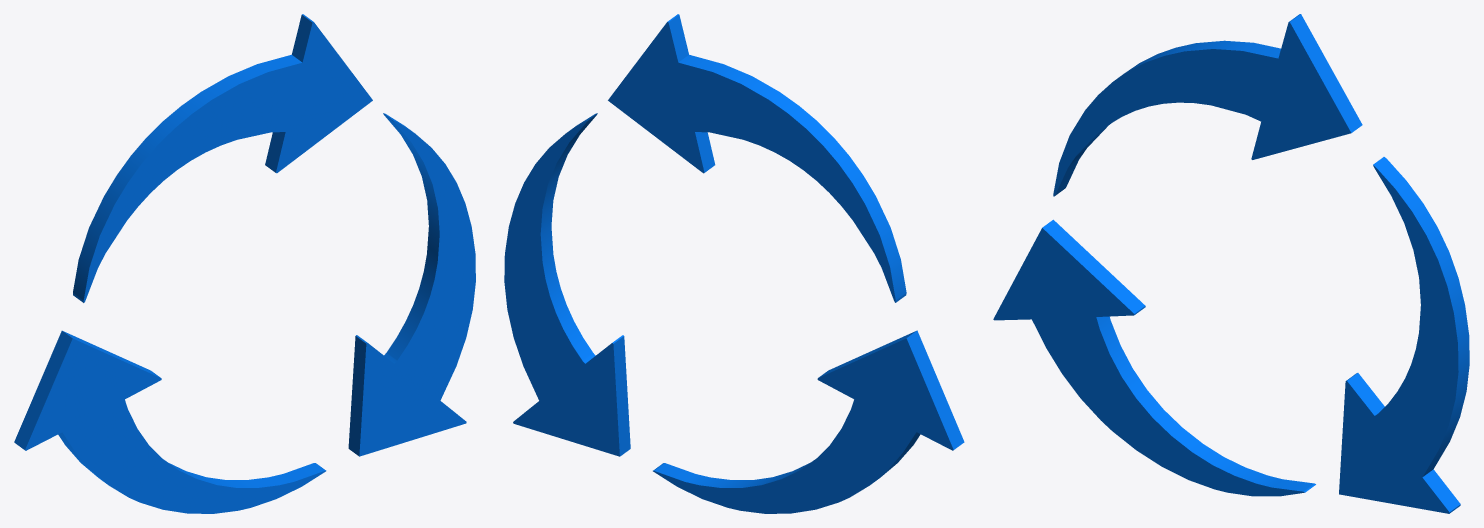
Rendered from cycle.glb.
The picture shows the model from 3 angles, left to right: view 1: azimuth 30°, elevation 25°; view 2: azimuth 150°, elevation 25°; view 3: azimuth 330°, elevation 25°; orthographic projection. The views are drawn at different scales.
Parts seen in each view (by area): view 1: Curve.002; view 2: Curve.002; view 3: Curve.002.
Part boxes in pixels (bbox=[...]): Curve.002: bbox=[14, 14, 475, 513]; Curve.002: bbox=[504, 14, 964, 513]; Curve.002: bbox=[993, 14, 1469, 513].
Bounding box in the file's own units: 2.53 × 2.53 × 0.1155.
